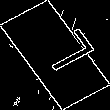L_SW: (20, 29, 90, 81)
